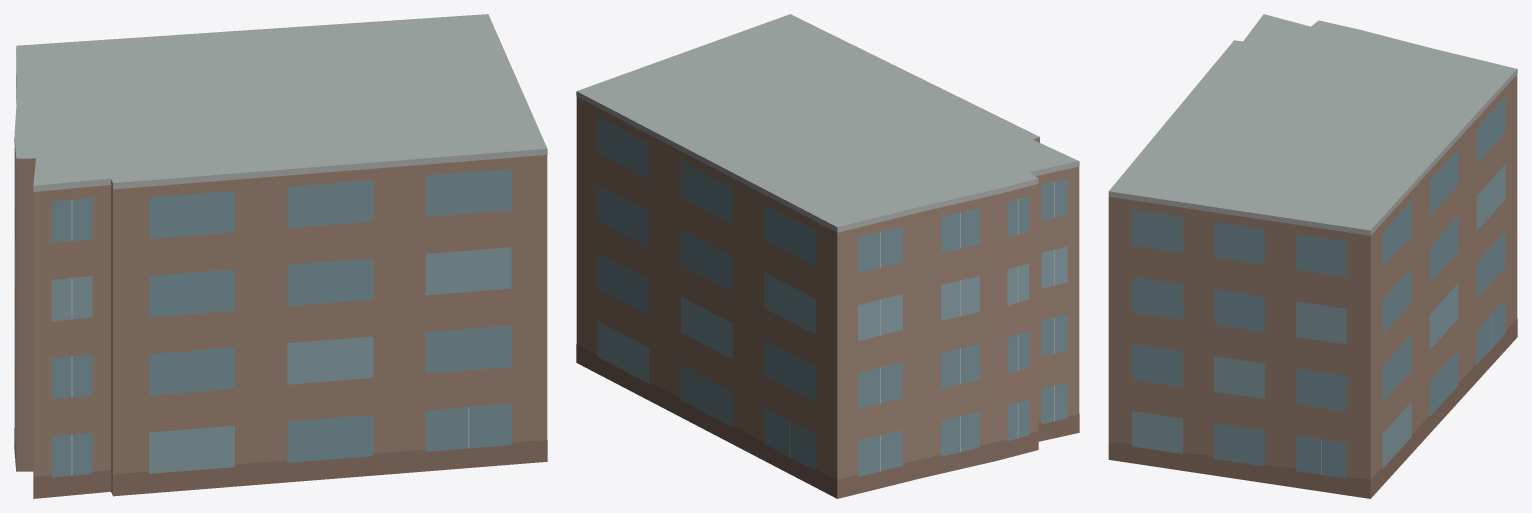
The model's file is survey-upis-32847587.glb.
3 renders of one model, left to right at view 1: azimuth 30°, elevation 25°; view 2: azimuth 150°, elevation 25°; view 3: azimuth 270°, elevation 25°, orthographic. The views are drawn at different scales.
Parts seen in each view (by area): view 1: survey-upis-32847587.tmp; view 2: survey-upis-32847587.tmp; view 3: survey-upis-32847587.tmp.
Part boxes in pixels (left/top/right/bottom): survey-upis-32847587.tmp: left=14, top=14, right=547, bottom=498; survey-upis-32847587.tmp: left=576, top=14, right=1079, bottom=498; survey-upis-32847587.tmp: left=1108, top=14, right=1517, bottom=498.
Size of the model in its own units: 21.29 by 12.3 by 16.99.
